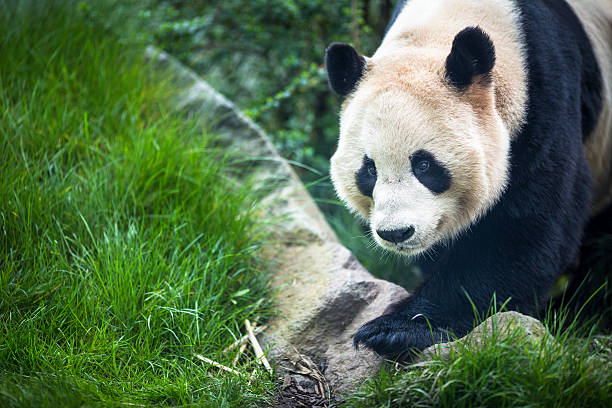panda: (256, 17, 524, 267)
